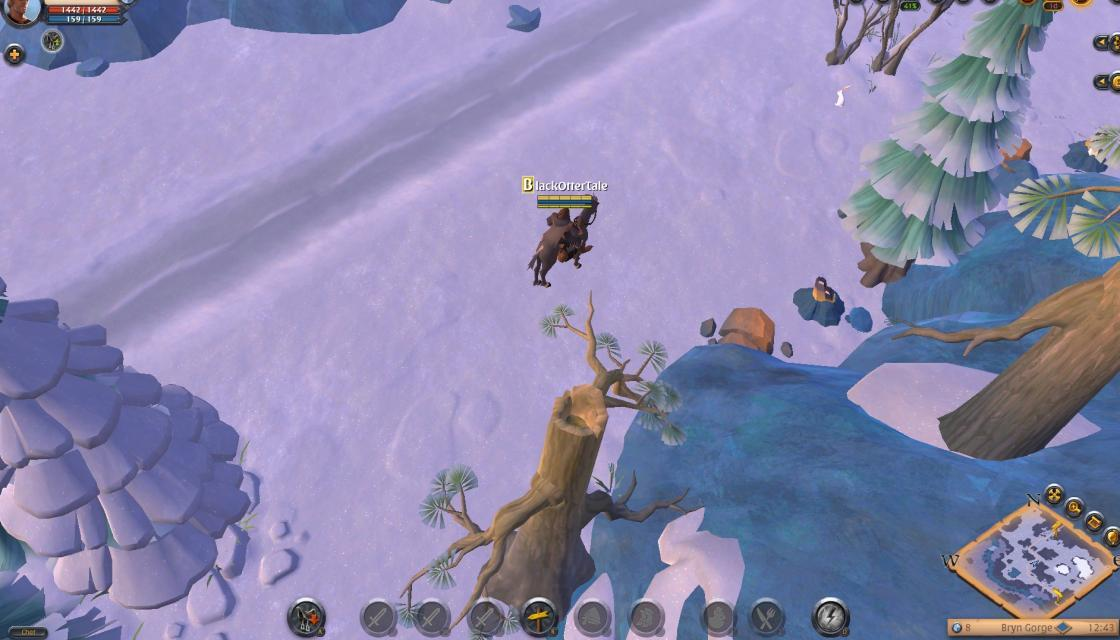copperore: (792, 274, 845, 326)
limestone: (700, 301, 778, 357)
